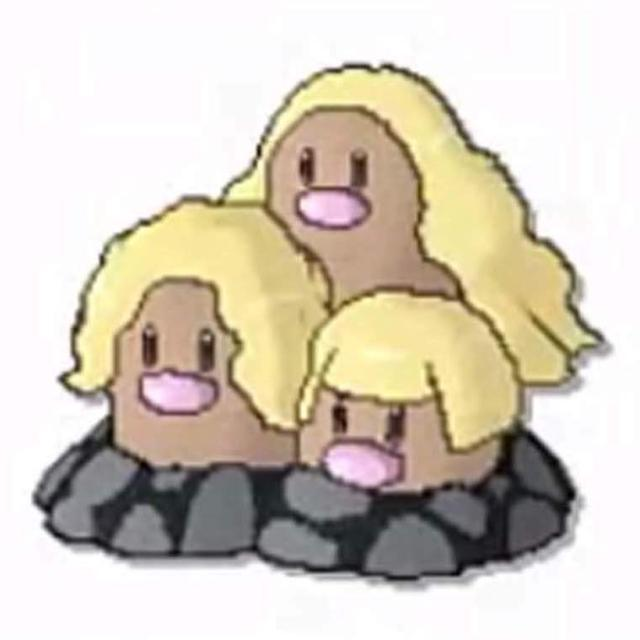Dugtrio: (30, 68, 582, 584)
